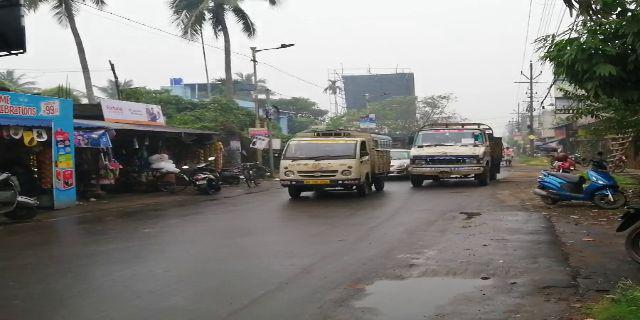Minitruck: (279, 126, 389, 205)
Motorbike: (537, 164, 627, 213)
Truck: (412, 129, 503, 181)
